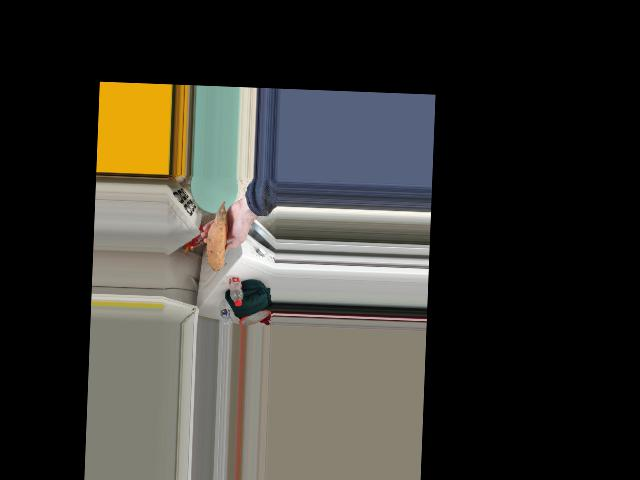sweet_potato: (206, 203, 230, 271)
